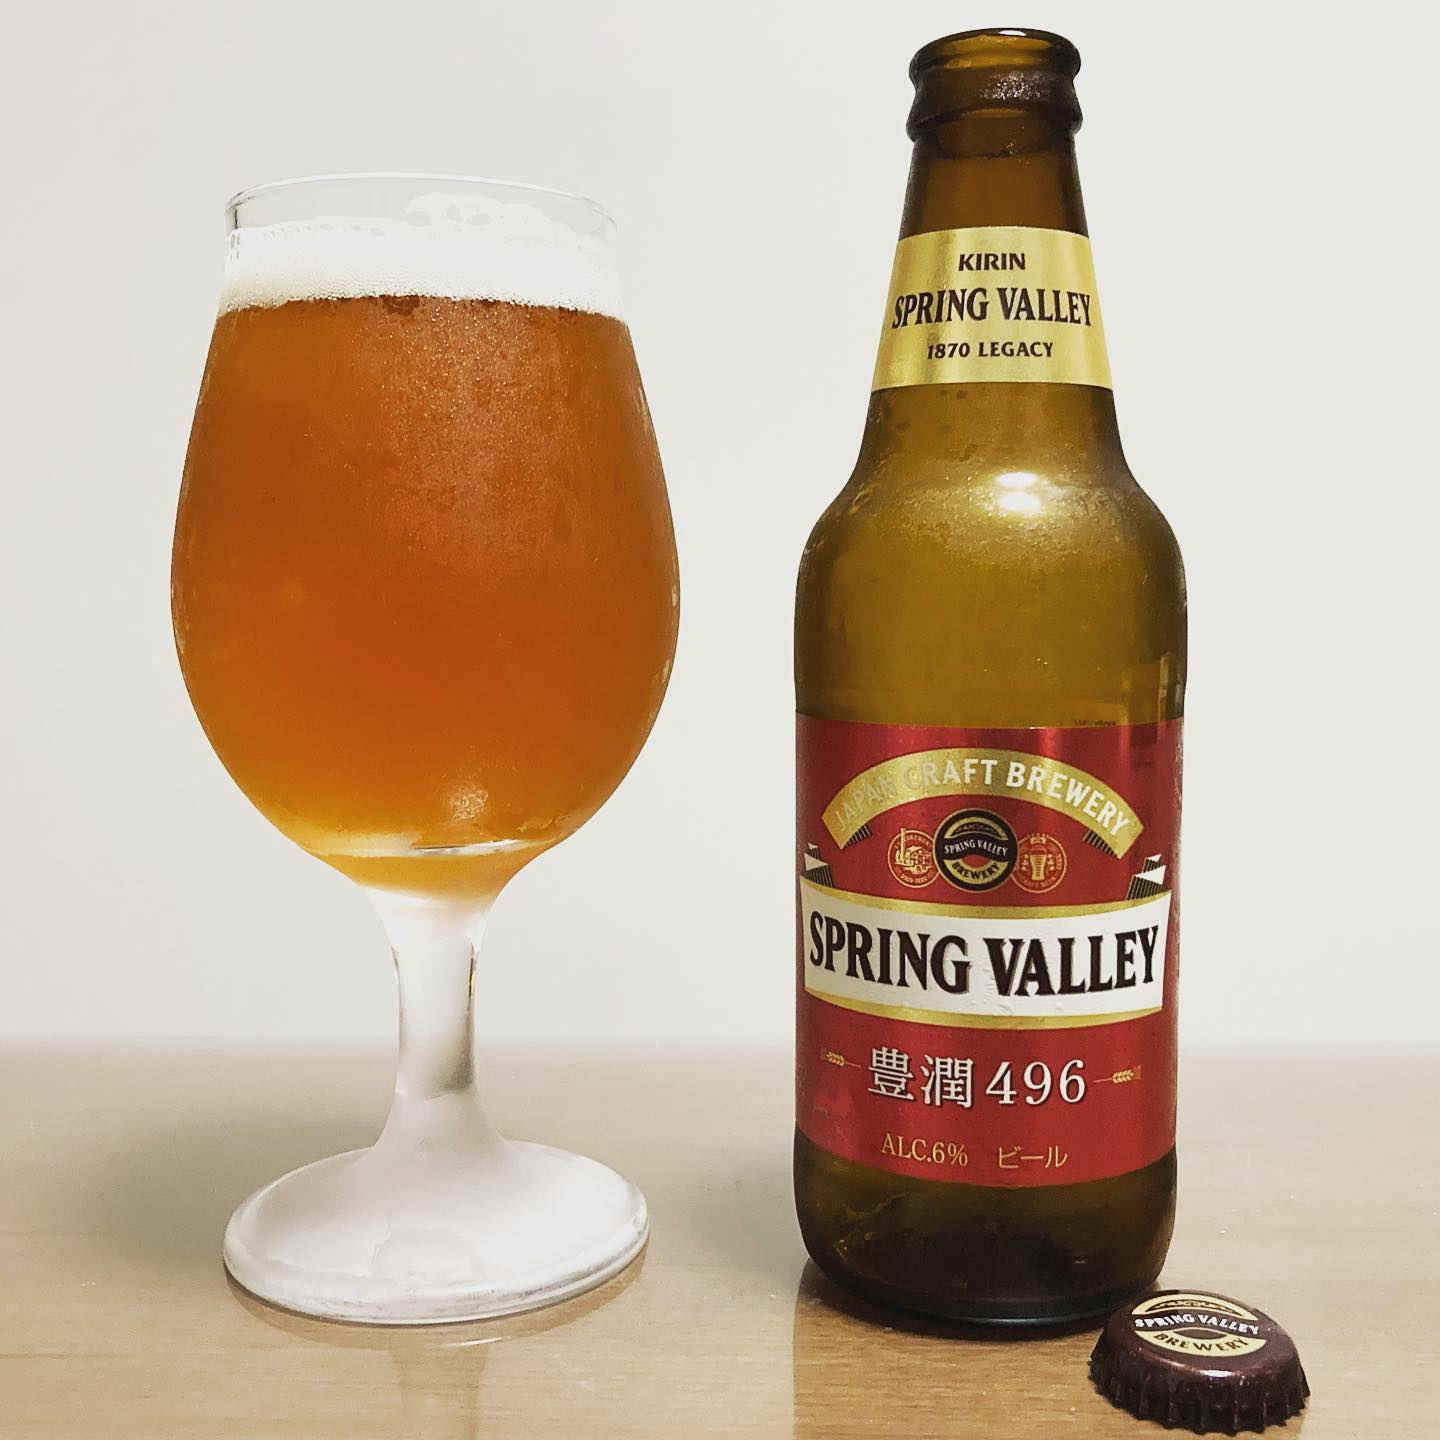alcohol: (162, 162, 686, 1337), (782, 18, 1197, 1346)
